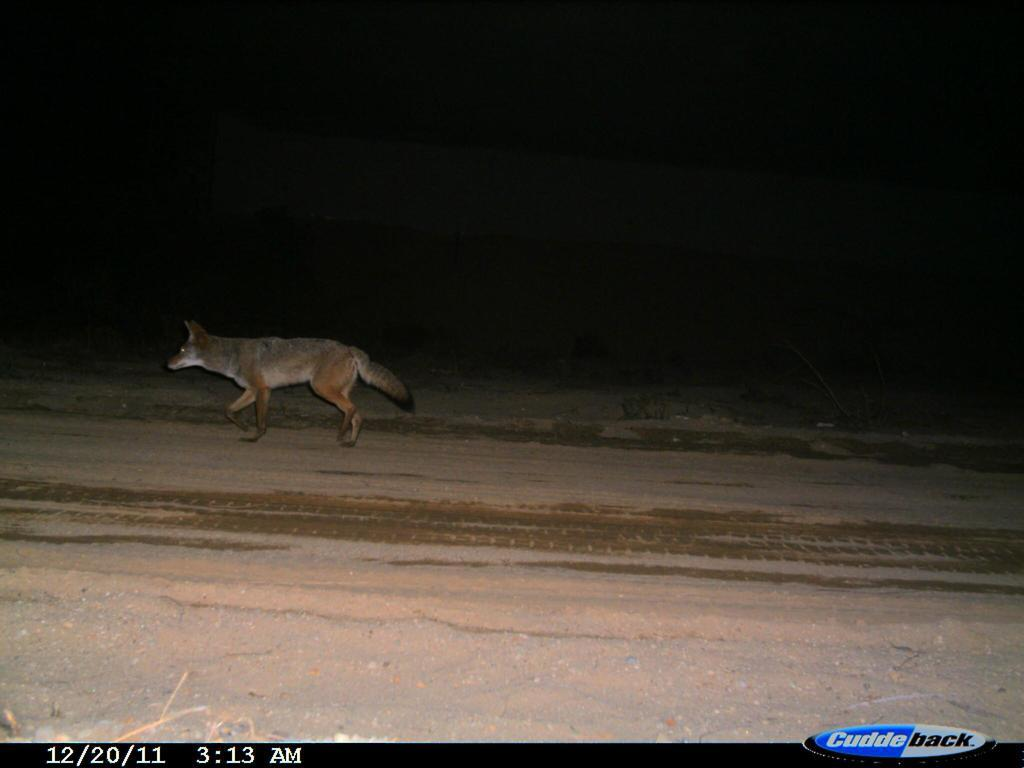coyote: (157, 311, 425, 457)
